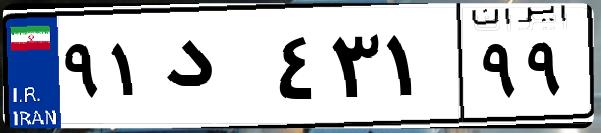1: (385, 28, 445, 110), (110, 28, 158, 98)
3: (330, 28, 385, 110)
4: (270, 28, 330, 110)
9: (57, 26, 110, 100), (475, 38, 525, 113), (525, 38, 570, 115)
د: (158, 20, 270, 120)
